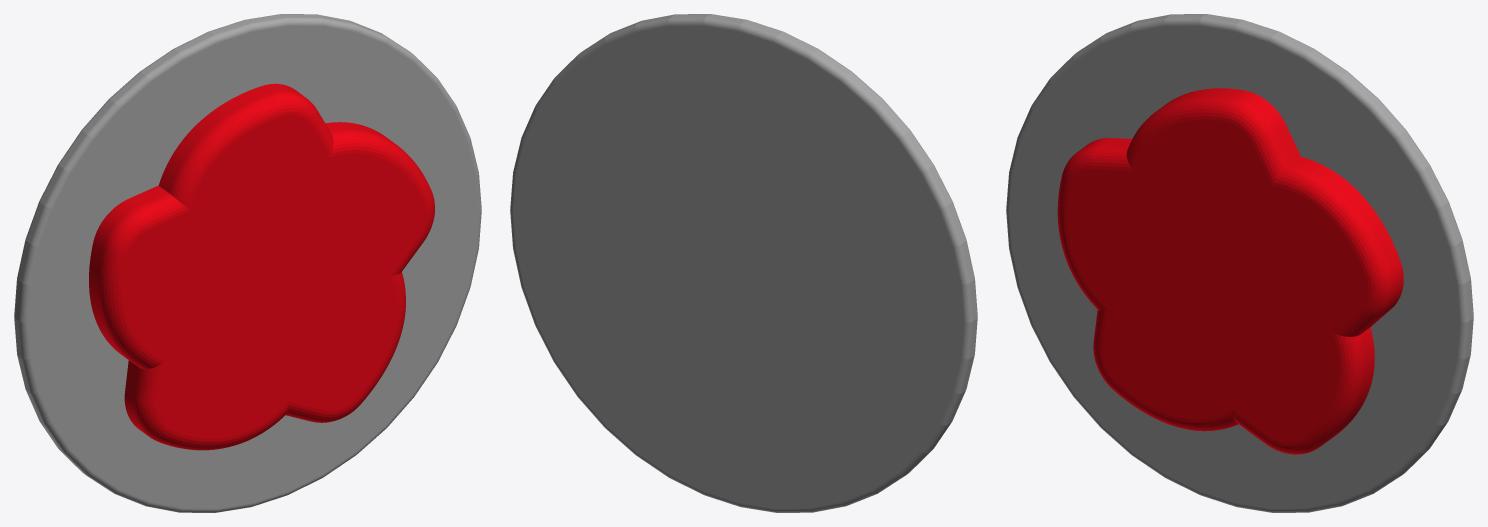
The model's file is award-6.glb.
3 views of the same model, side by side, from view 1: azimuth 30°, elevation 25°; view 2: azimuth 150°, elevation 25°; view 3: azimuth 330°, elevation 25° (orthographic).
Parts seen in each view (by area): view 1: Mesh_0.005, Mesh_1.005; view 2: Mesh_1.005; view 3: Mesh_0.005, Mesh_1.005.
Part boxes in pixels (left/top/right/bottom): Mesh_0.005: left=89, top=83, right=434, bottom=450; Mesh_1.005: left=14, top=14, right=481, bottom=512; Mesh_1.005: left=510, top=14, right=977, bottom=512; Mesh_0.005: left=1057, top=88, right=1403, bottom=454; Mesh_1.005: left=1006, top=14, right=1473, bottom=512.
Size of the model in its own units: 41 by 41 by 4.6.
